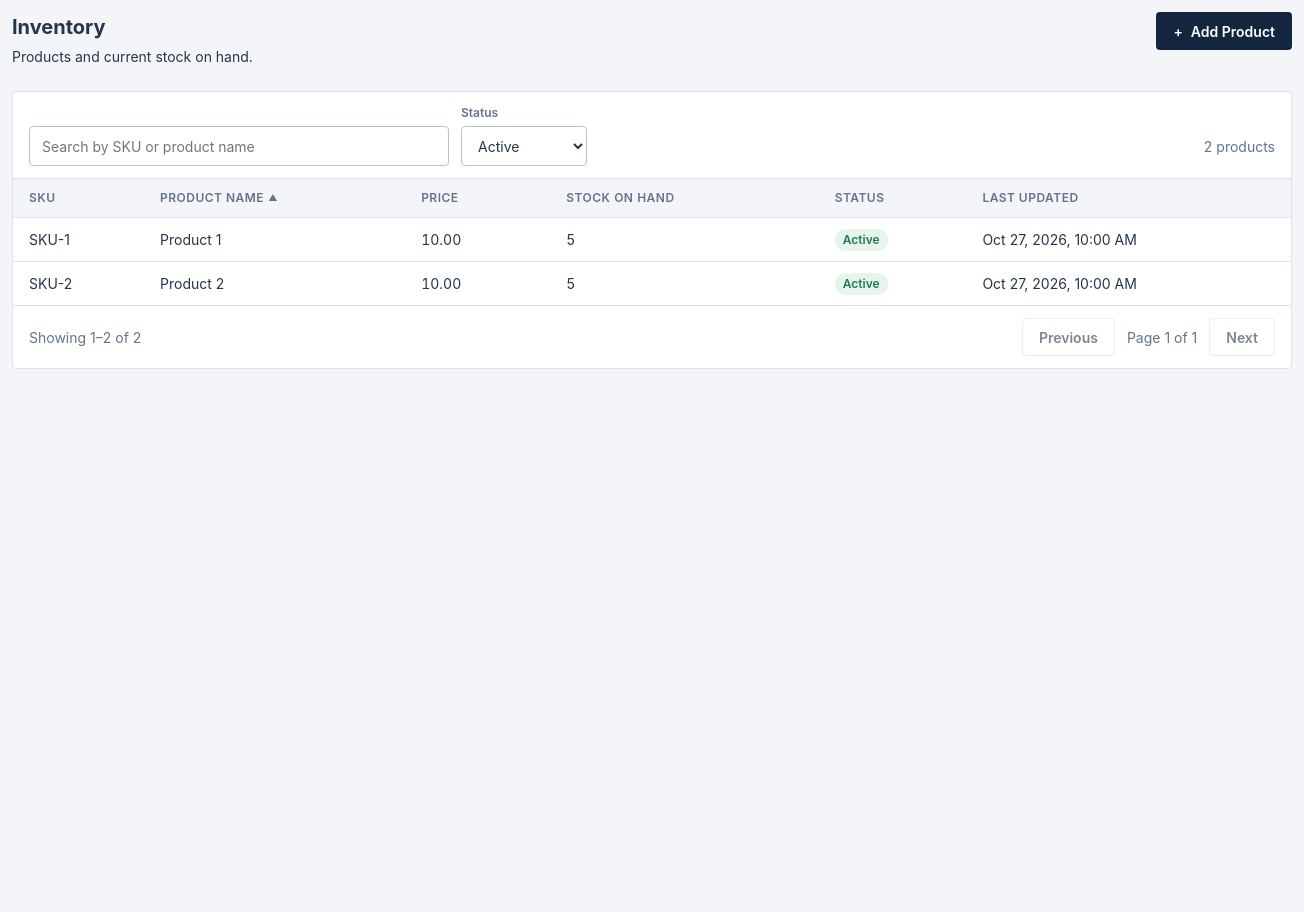
Test: successful creation › keeps an active search and explains that the new product may be hidden by it
Expected: the text "Product 1" is shown, [144,218,405,262]
In the search field named "Search products": (239, 146) [29,126,449,166], type "Product 1"
Click the button "+ Add Product": (1224, 31) [1156,12,1292,50]
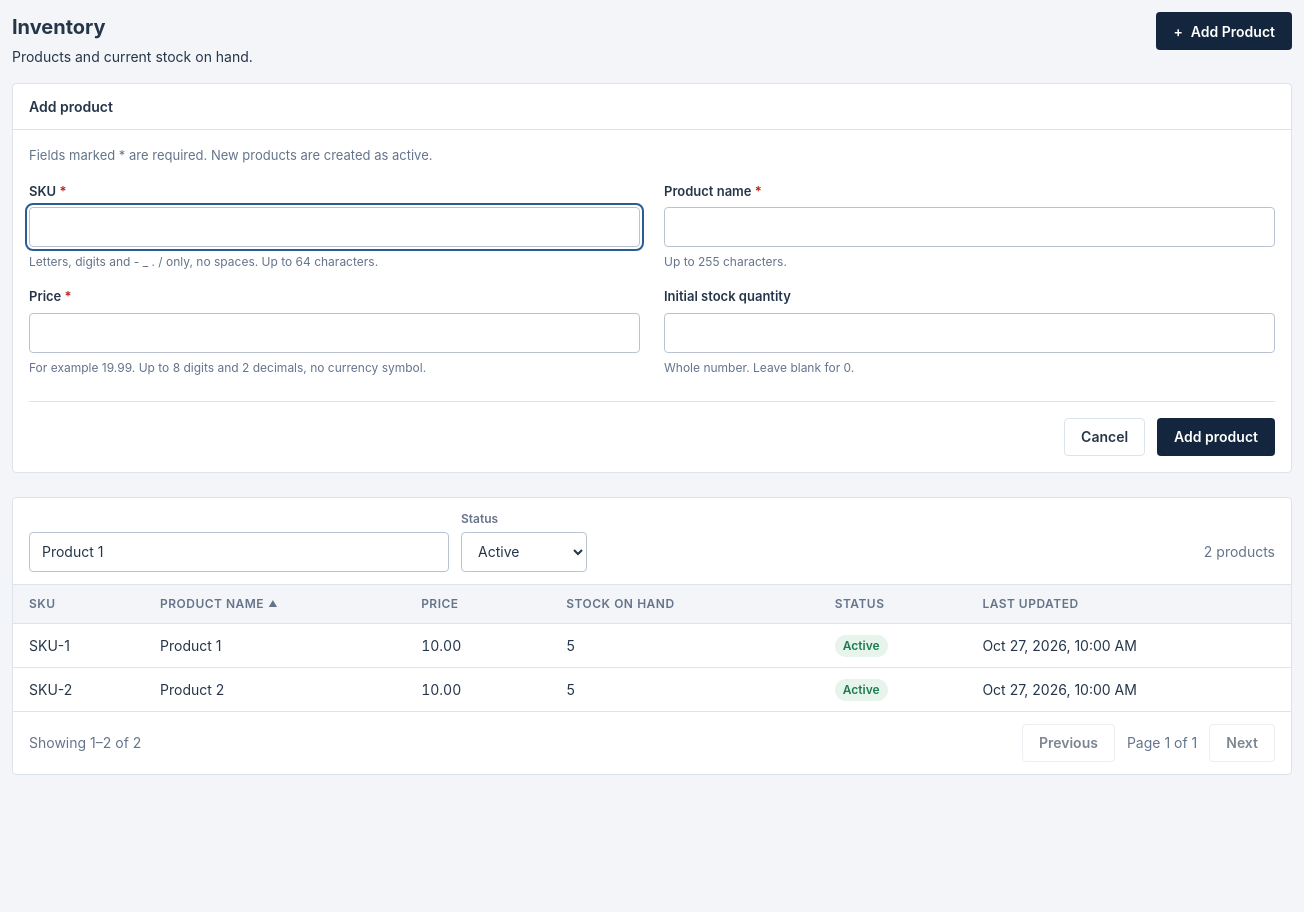
In the field labelled "SKU *": (334, 227) [29,207,640,247], type "ZZZ-1"
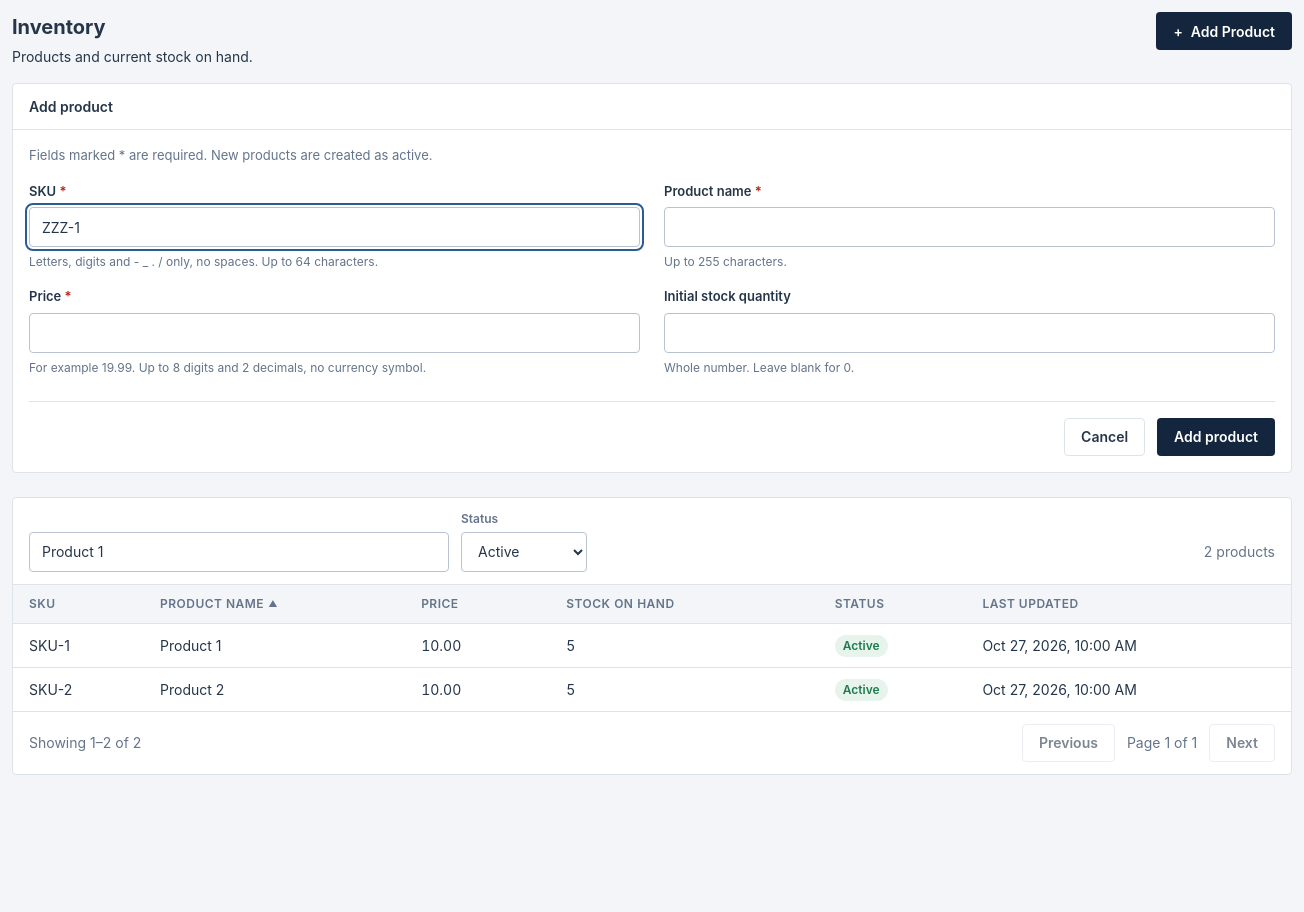
In the field labelled "Product name *": (970, 227) [664,207,1275,247], type "Unrelated Gadget"
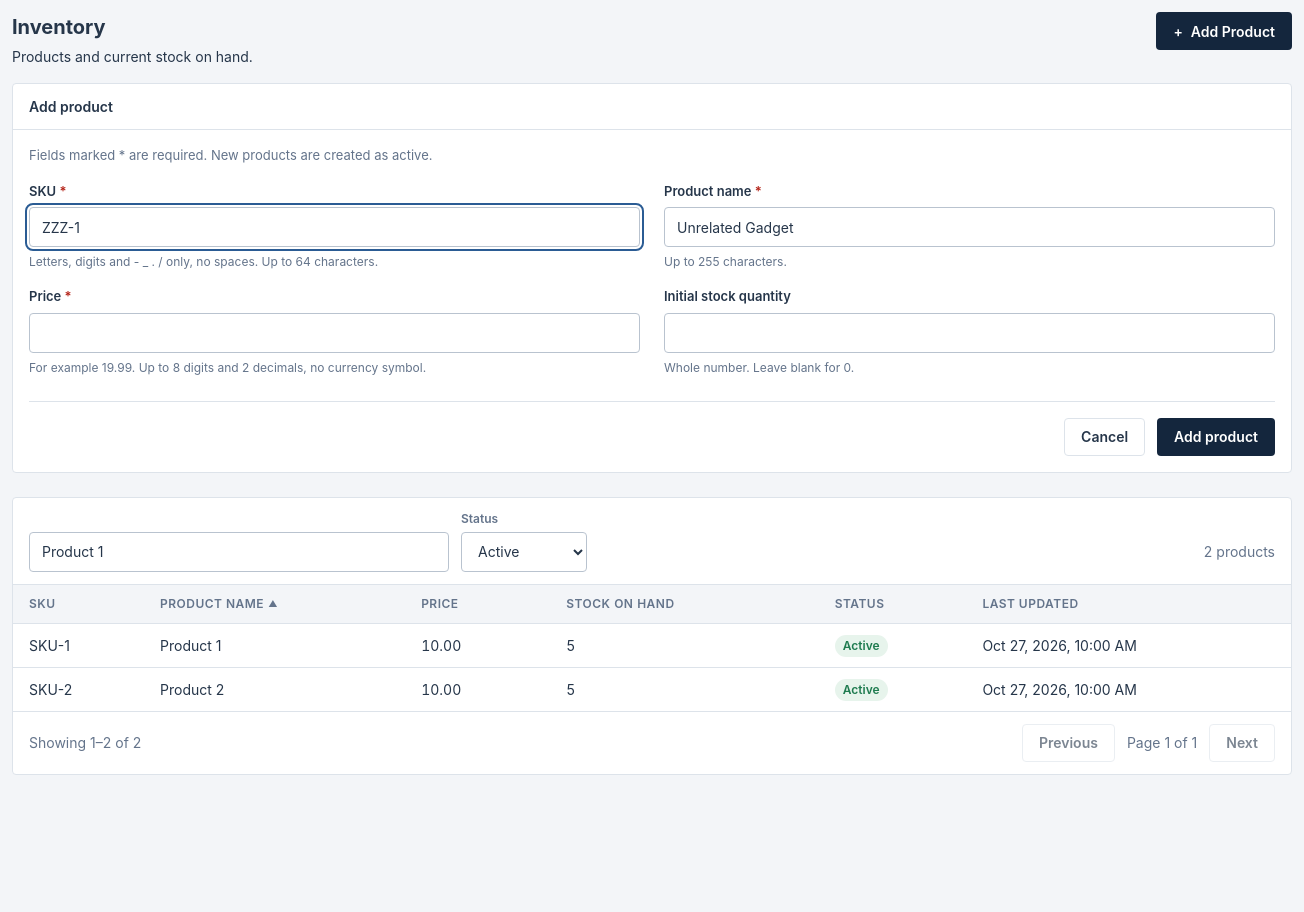
In the field labelled "Price *": (334, 332) [29,312,640,352], type "12.50"
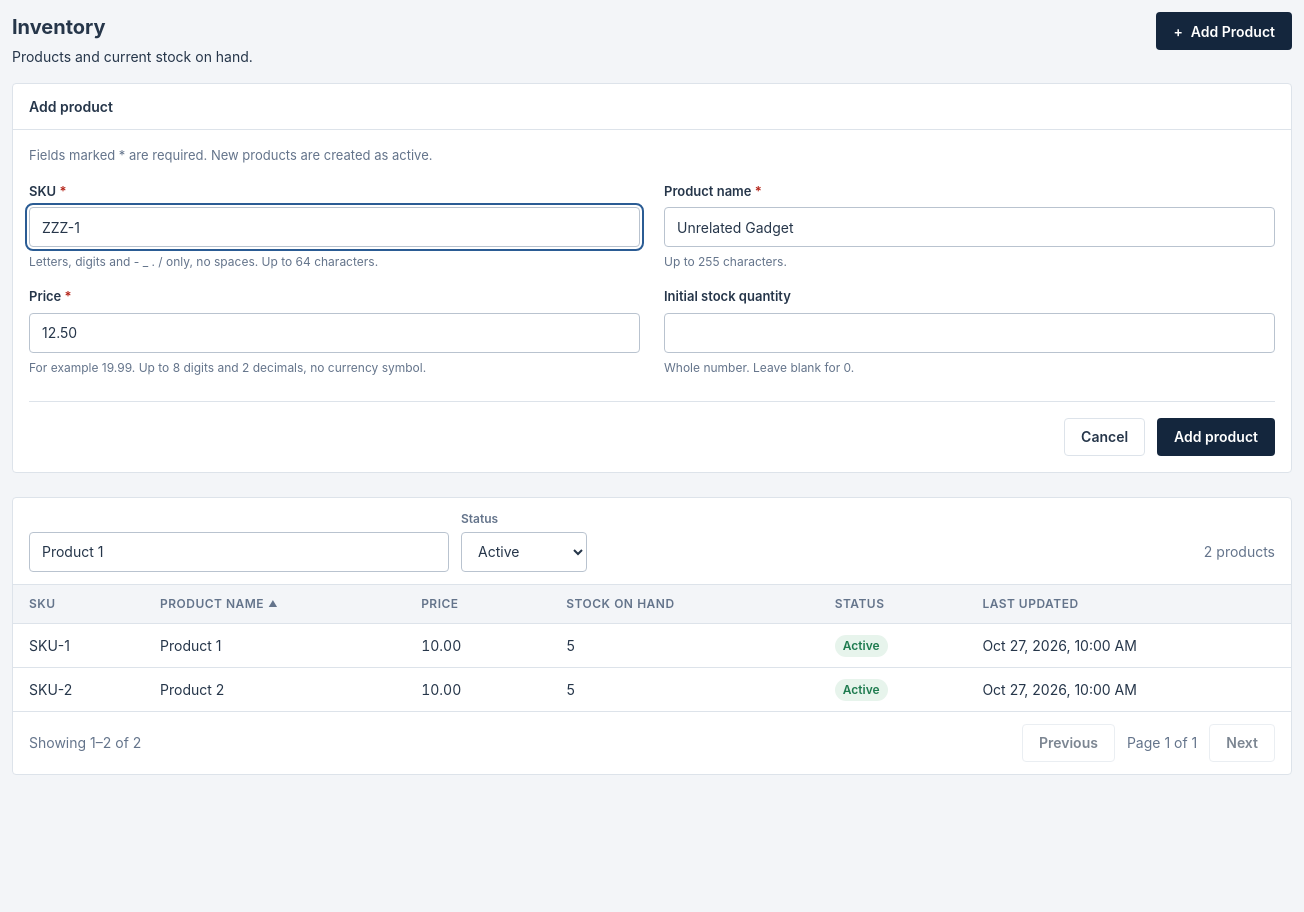
In the field labelled "Initial stock quantity": (970, 332) [664,312,1275,352], type "8"
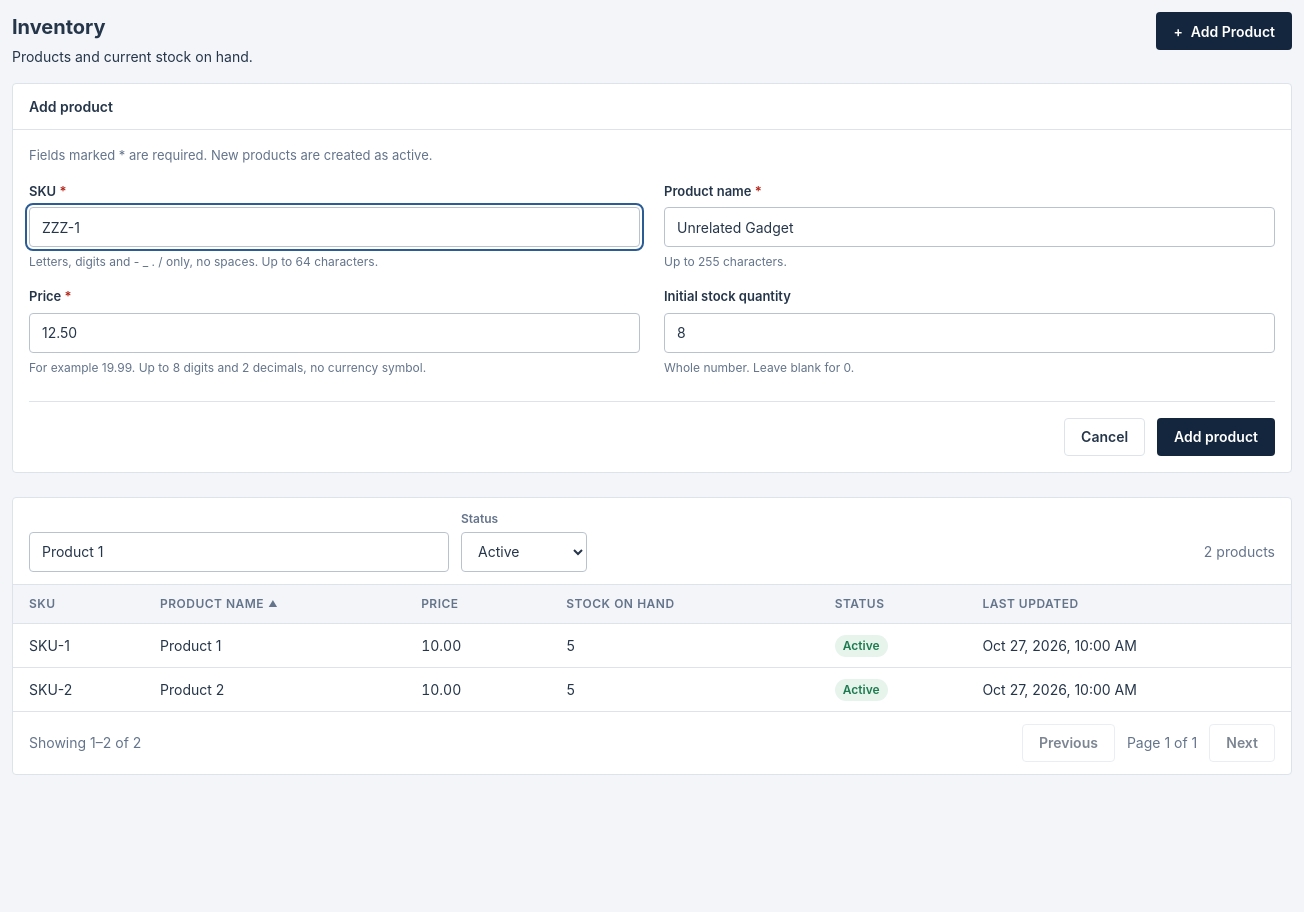
Click the button "Add product": (1216, 436) [1157,418,1275,456]
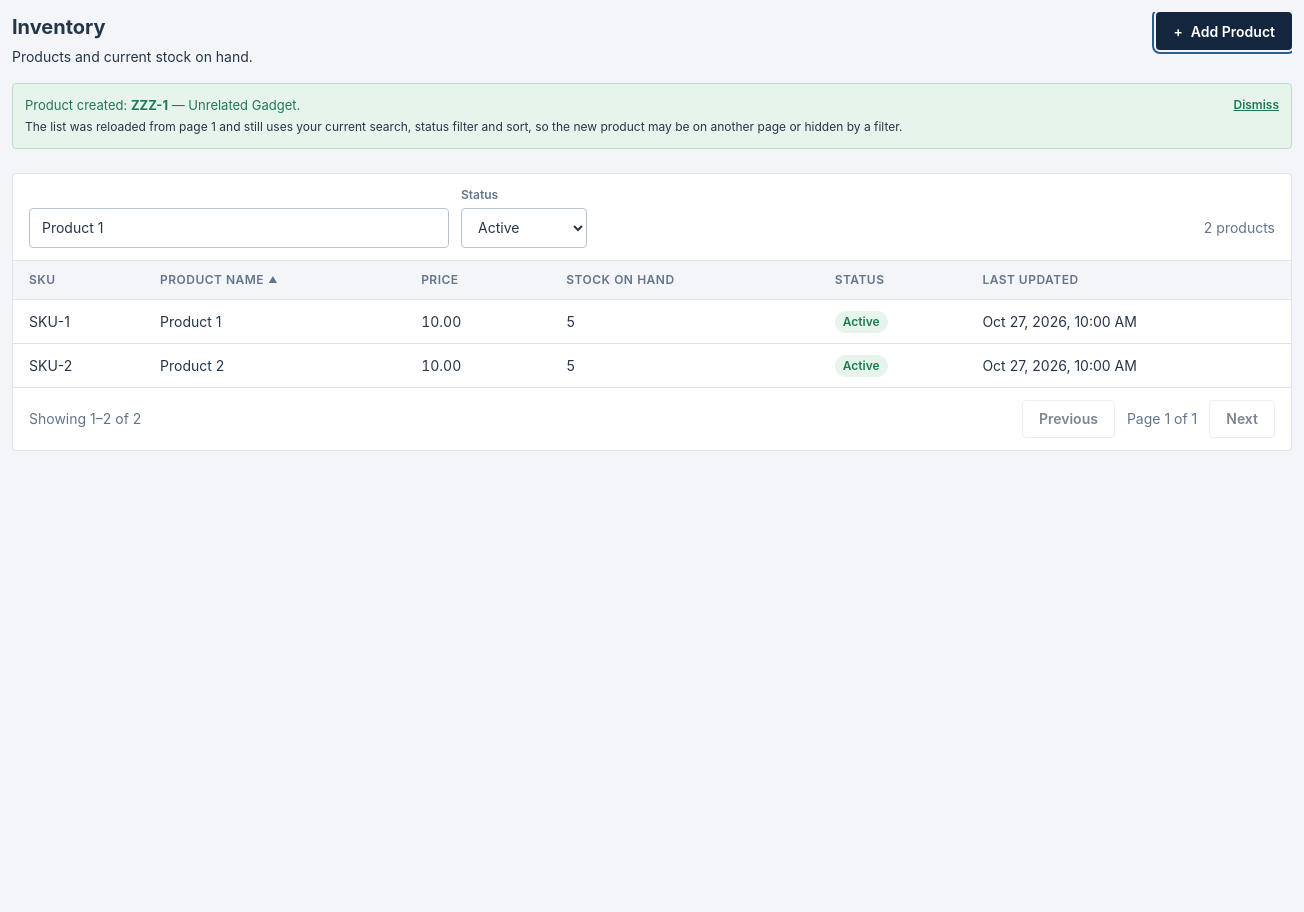
Expected: the text "Product created:" shows "may be on another page or hidden by a filter", [25,118,902,134]
